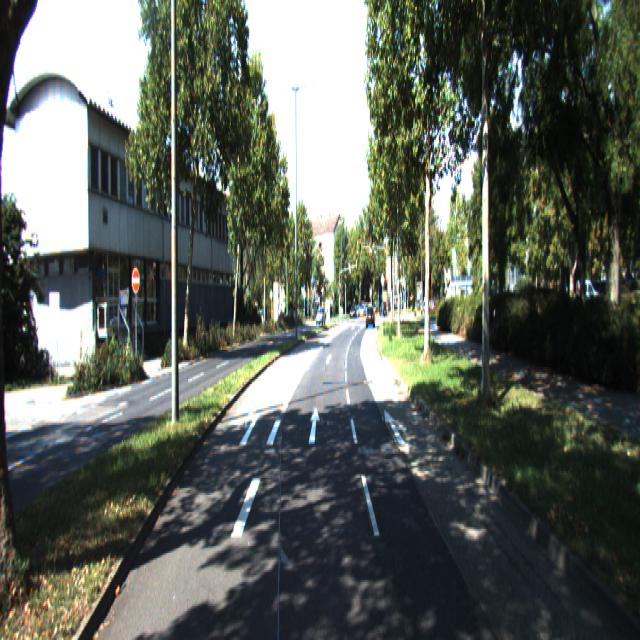Car: (366, 304, 376, 328)
